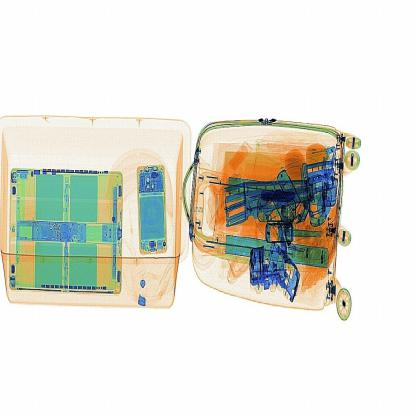knife: (262, 188, 300, 207)
